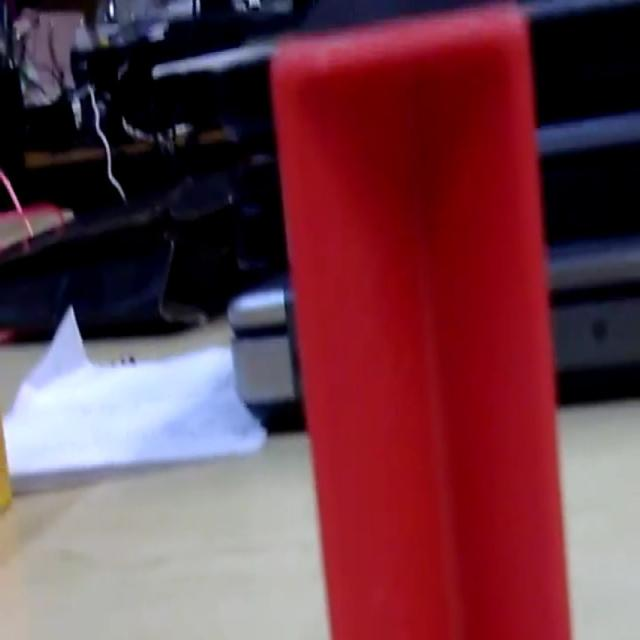red_block: (268, 7, 573, 636)
